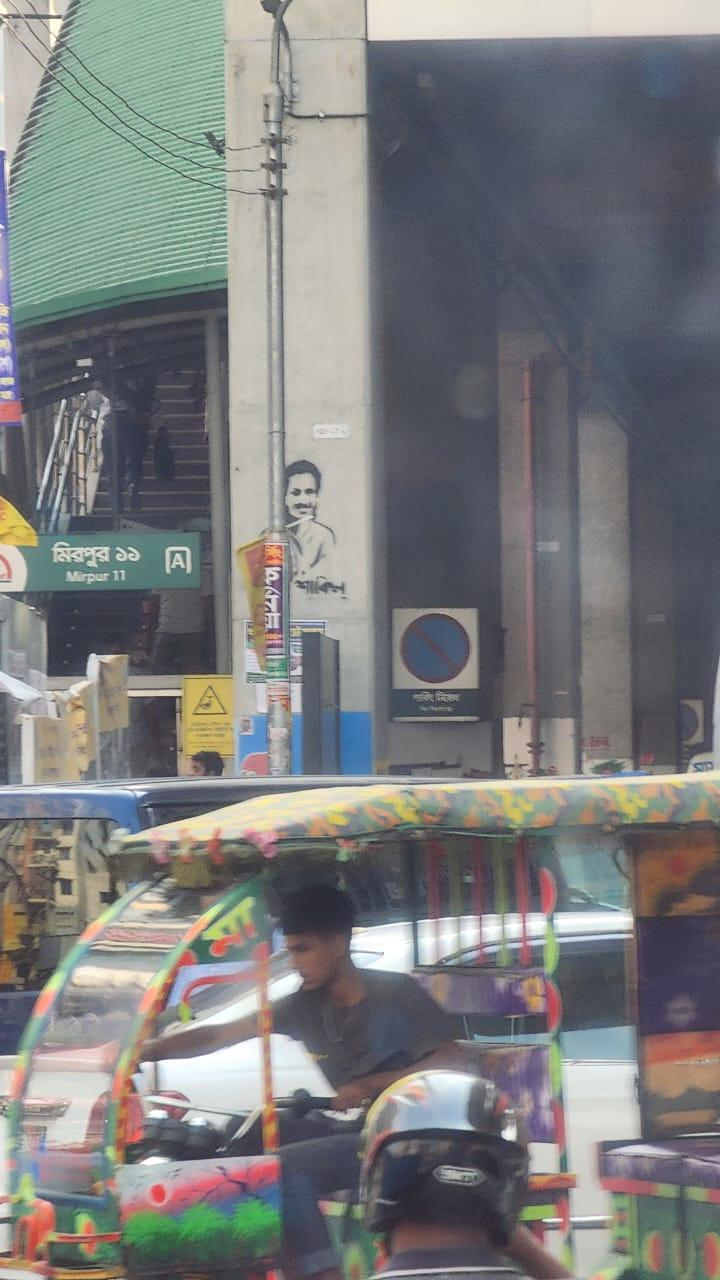No Parking: (382, 594, 490, 722)
